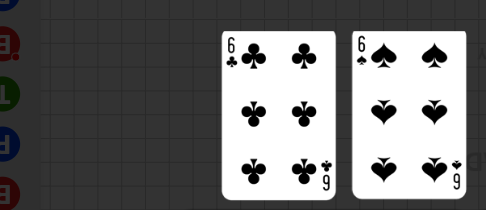6C: (226, 35, 240, 70)
6S: (356, 35, 369, 68)
